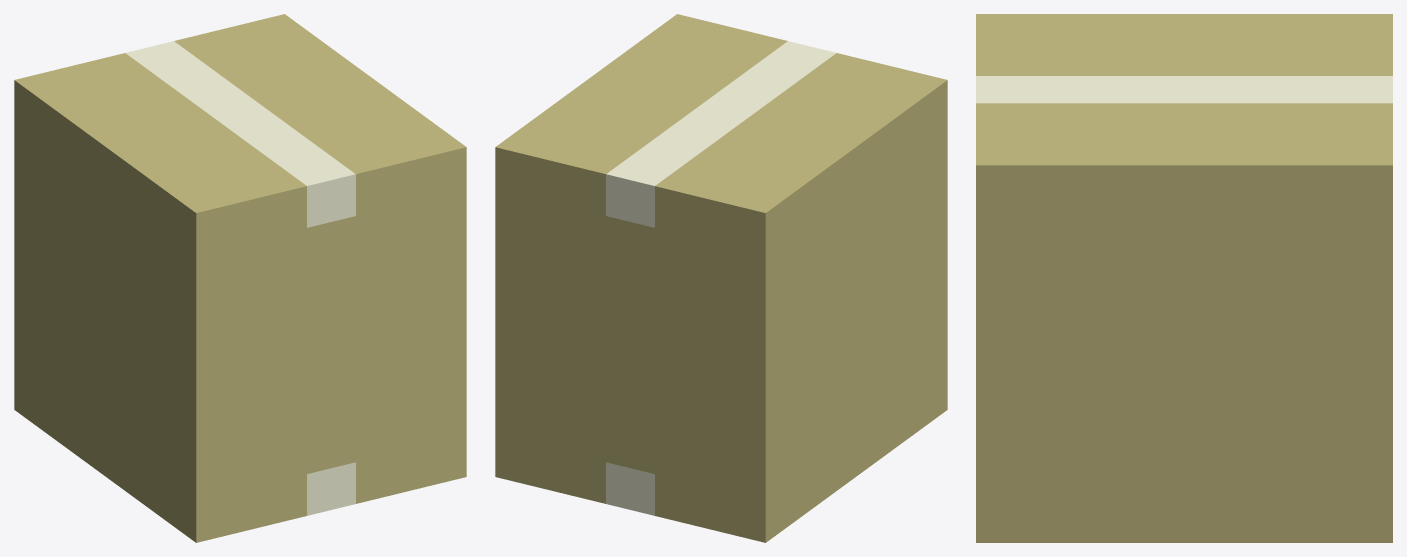
File: main_GREEN_03.fbx
3 views of the same model, side by side, from view 1: azimuth 30°, elevation 25°; view 2: azimuth 150°, elevation 25°; view 3: azimuth 270°, elevation 25° (orthographic). The views are drawn at different scales.
Parts seen in each view (by area): view 1: Cardboard Box 03; view 2: Cardboard Box 03; view 3: Cardboard Box 03.
Part boxes in pixels (x1,y1,x2,y2): Cardboard Box 03: (14, 14, 466, 542); Cardboard Box 03: (495, 14, 947, 542); Cardboard Box 03: (976, 14, 1392, 542).
Bounding box in the file's own units: 19.48 × 22.7 × 22.7.
